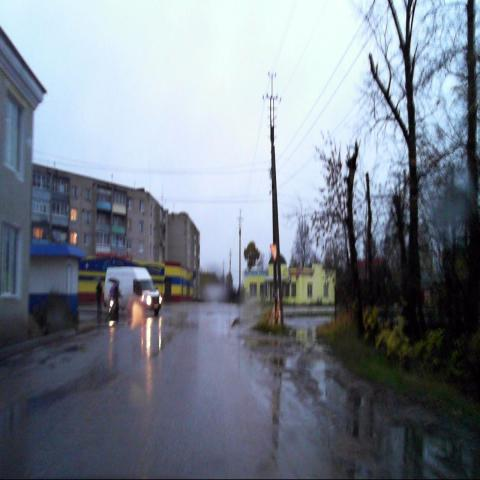2_4: (270, 243, 280, 262)
